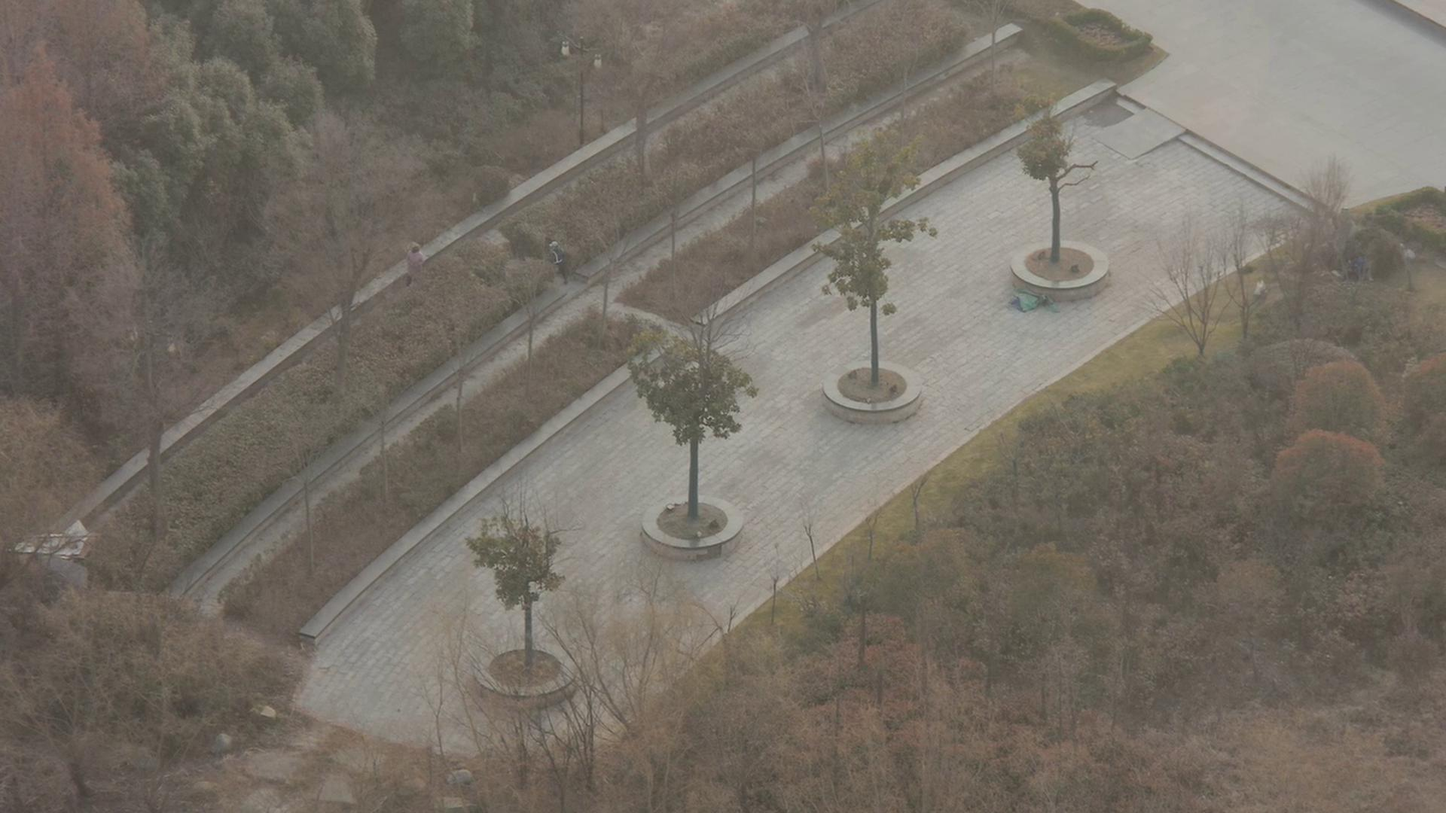human: (404, 213, 435, 269), (546, 215, 575, 268)
